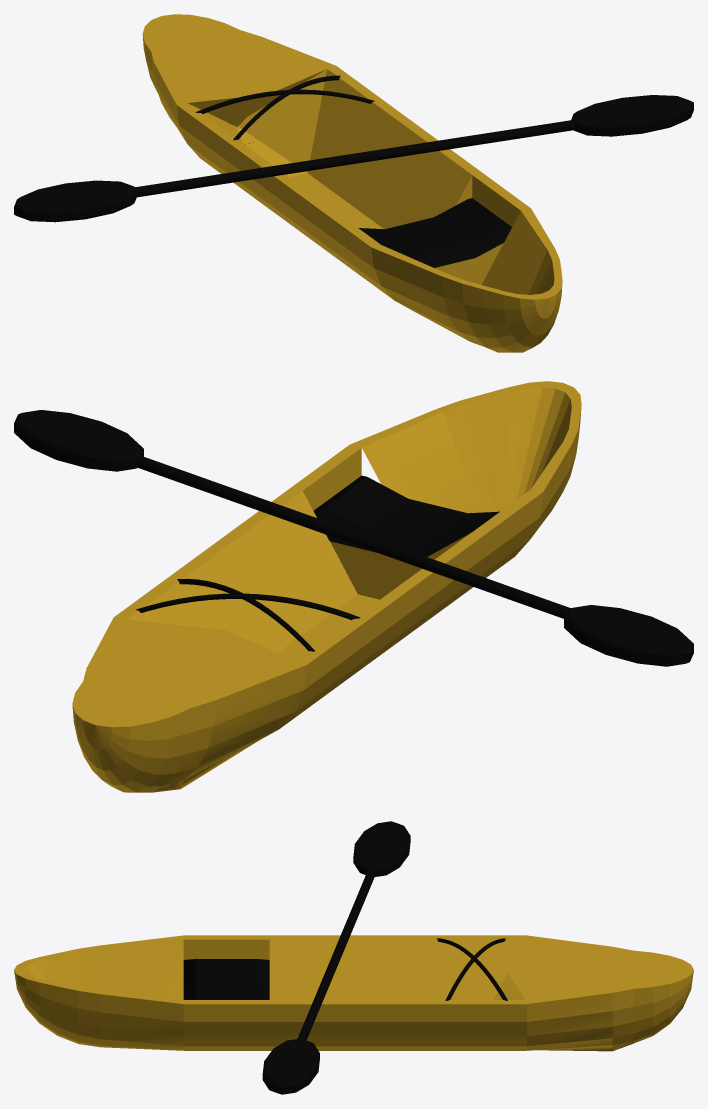
The picture shows the model from 3 angles, top to bottom: view 1: azimuth 30°, elevation 25°; view 2: azimuth 150°, elevation 25°; view 3: azimuth 270°, elevation 25°; orthographic projection. The views are drawn at different scales.
Visible parts, largest first — view 1: Capsule001; view 2: Capsule001; view 3: Capsule001.
Part boxes in pixels (bbox=[...]): Capsule001: bbox=[14, 14, 693, 352]; Capsule001: bbox=[14, 381, 693, 792]; Capsule001: bbox=[14, 821, 693, 1094].
Bounding box in the file's own units: 61.59 × 9.53 × 66.67.
